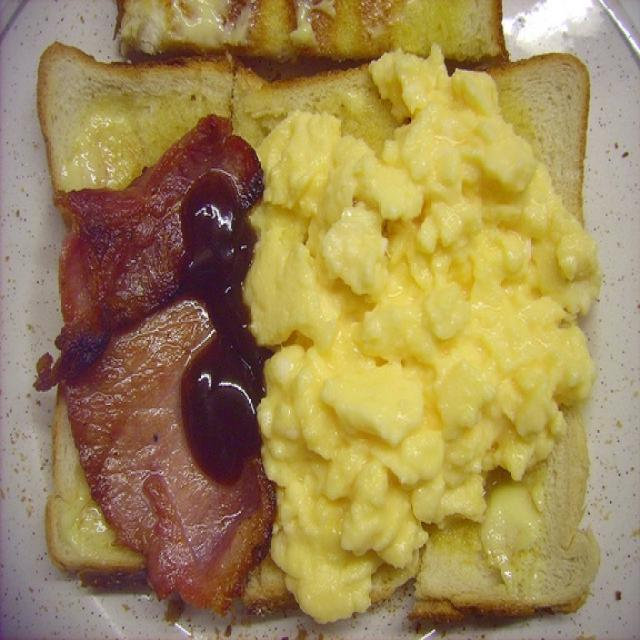鸡蛋料理: (30, 37, 608, 607)
